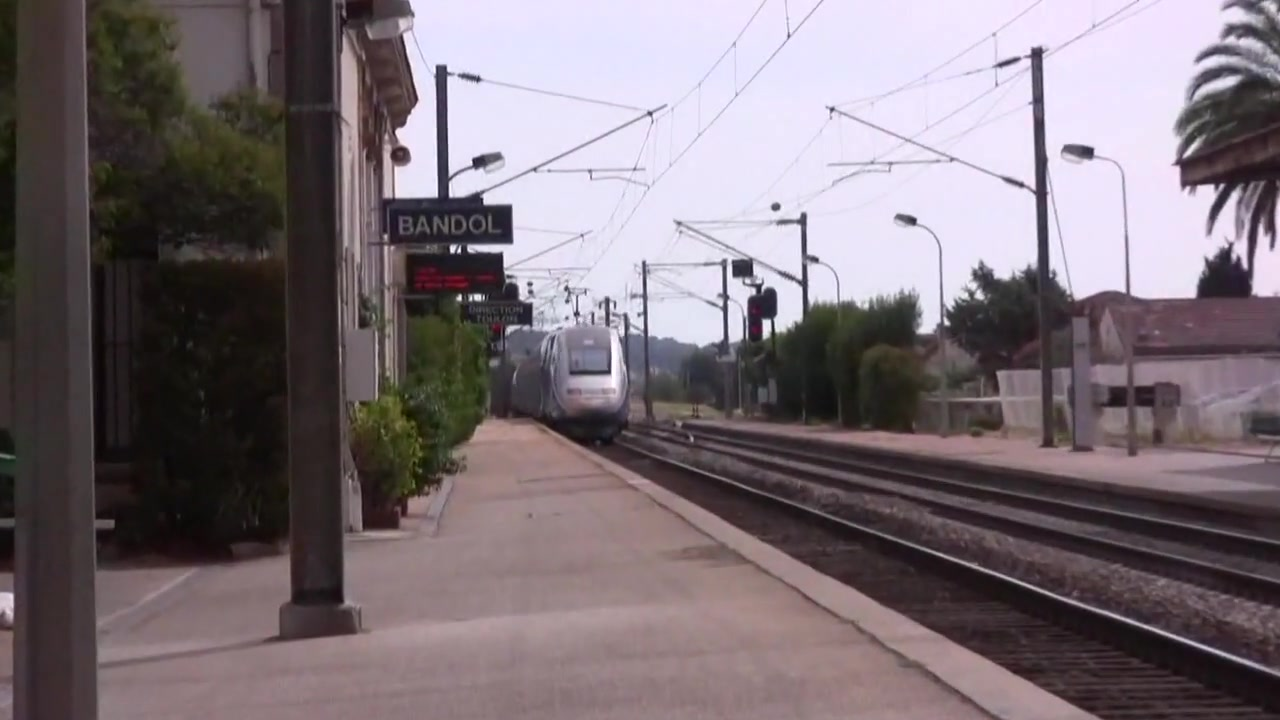train: (505, 320, 630, 433)
